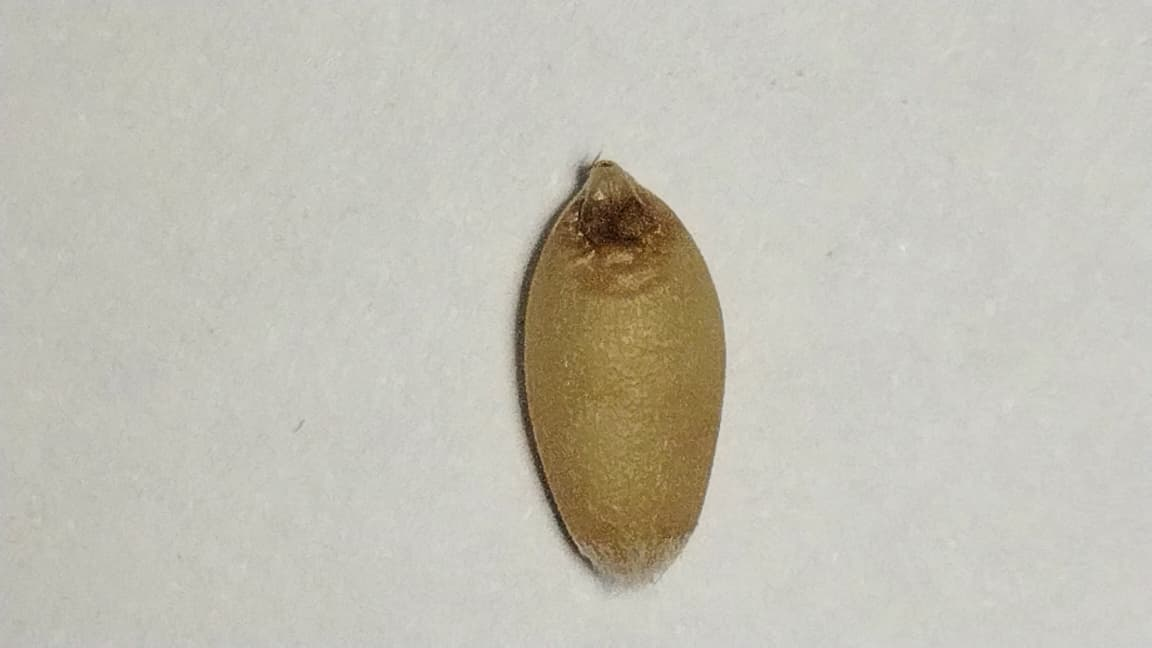black_point: (569, 185, 680, 271)
healthy: (519, 161, 726, 575)
